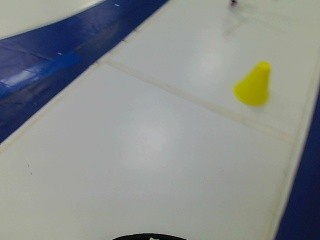cone: (233, 53, 279, 111)
